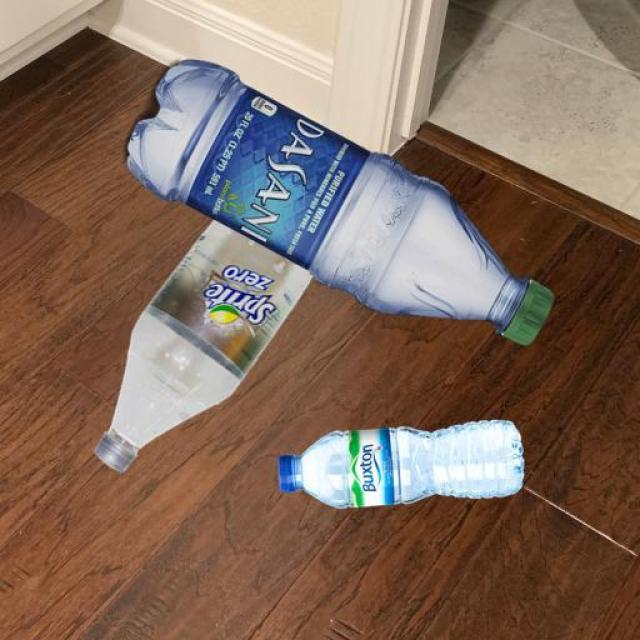plastic: (96, 60, 551, 471), (280, 420, 522, 508)
